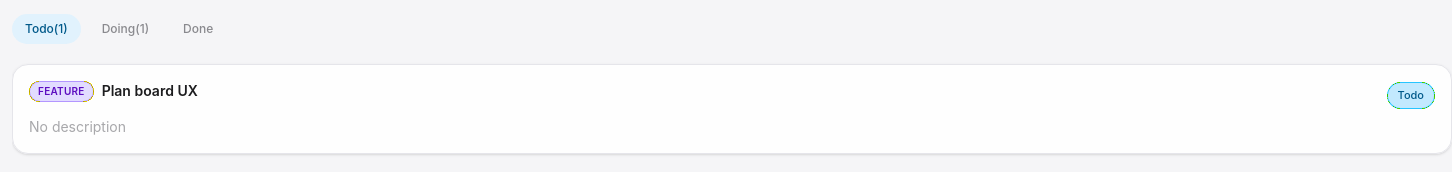
Scenario: IssueList › shows an empty hint for the selected status when it has no issues
The image size is (1452, 172).
Click the button "Done" at (198, 29), box [170, 14, 226, 44]
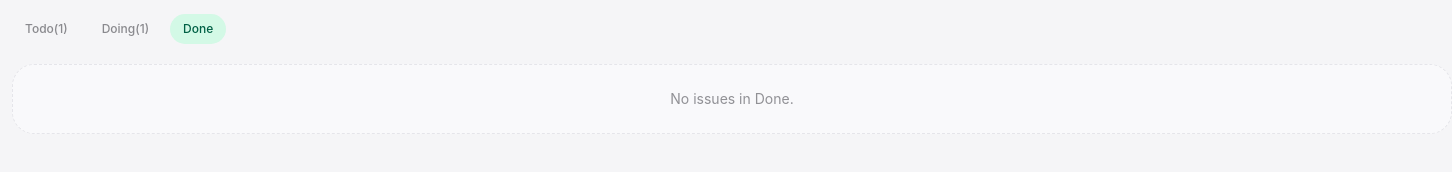
Expected: the button "Plan board UX" is gone
Expected: the text "No issues in Done." is shown, [12, 64, 1451, 134]
